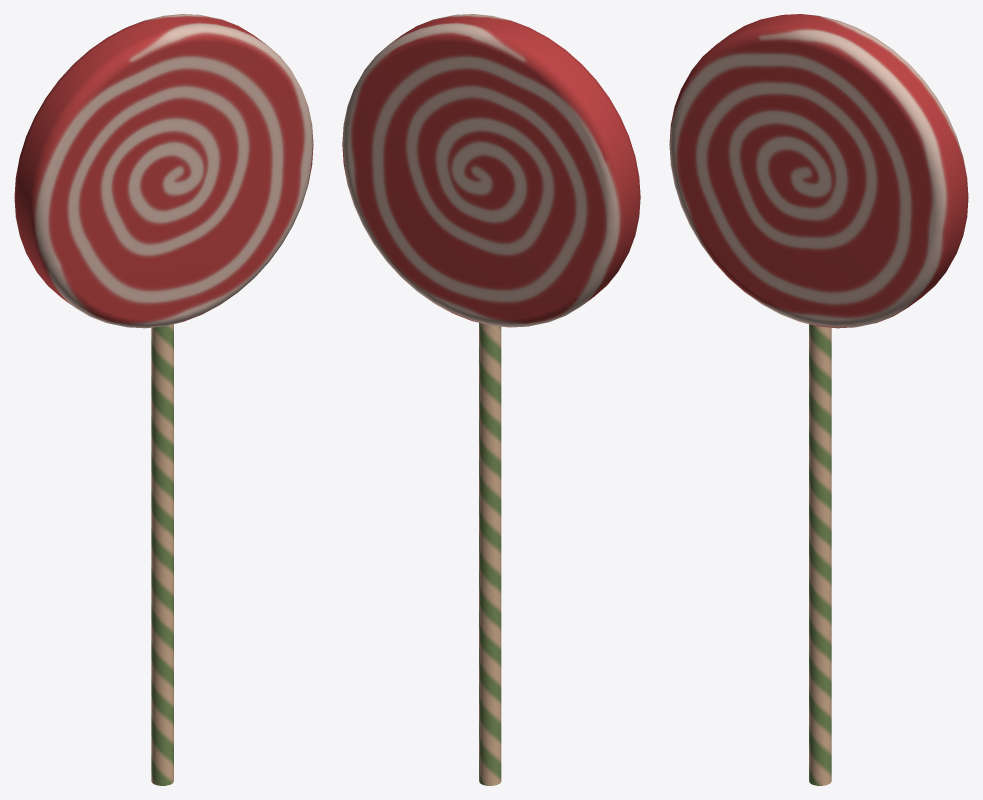
Rendered from lollipop.gltf.
The picture shows the model from 3 angles, left to right: view 1: azimuth 30°, elevation 25°; view 2: azimuth 150°, elevation 25°; view 3: azimuth 330°, elevation 25°; orthographic projection.
Visible parts, largest first — view 1: Object_2; view 2: Object_2; view 3: Object_2.
Part boxes in pixels (bbox=[...]): Object_2: bbox=[14, 14, 313, 785]; Object_2: bbox=[342, 14, 640, 785]; Object_2: bbox=[669, 14, 968, 785].
Bounding box in the file's own units: 10.98 × 28.22 × 1.82.
1 material, 1 textured.
